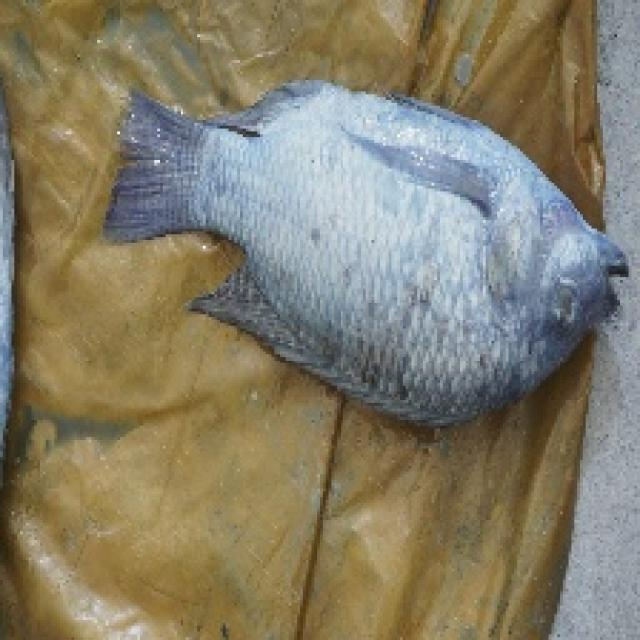Non-Fresh: (199, 76, 624, 423)
